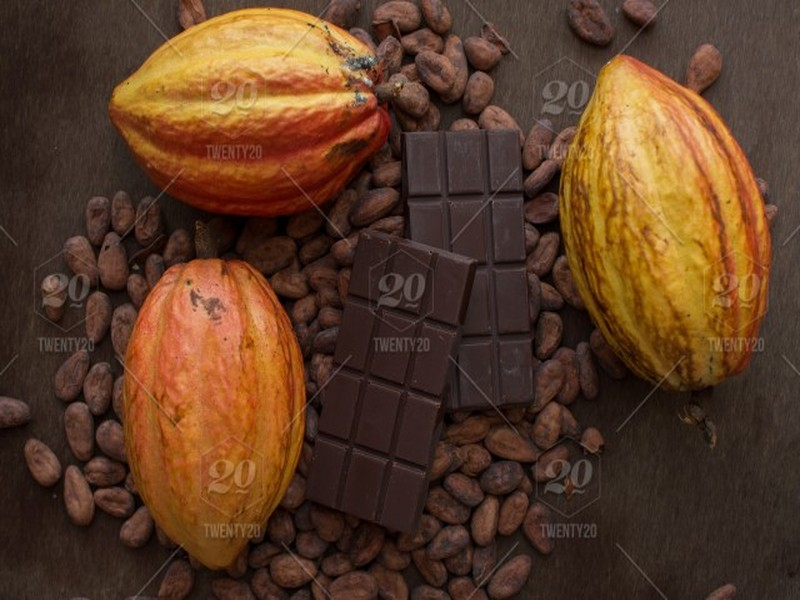Cacaopod: (556, 56, 763, 442)
